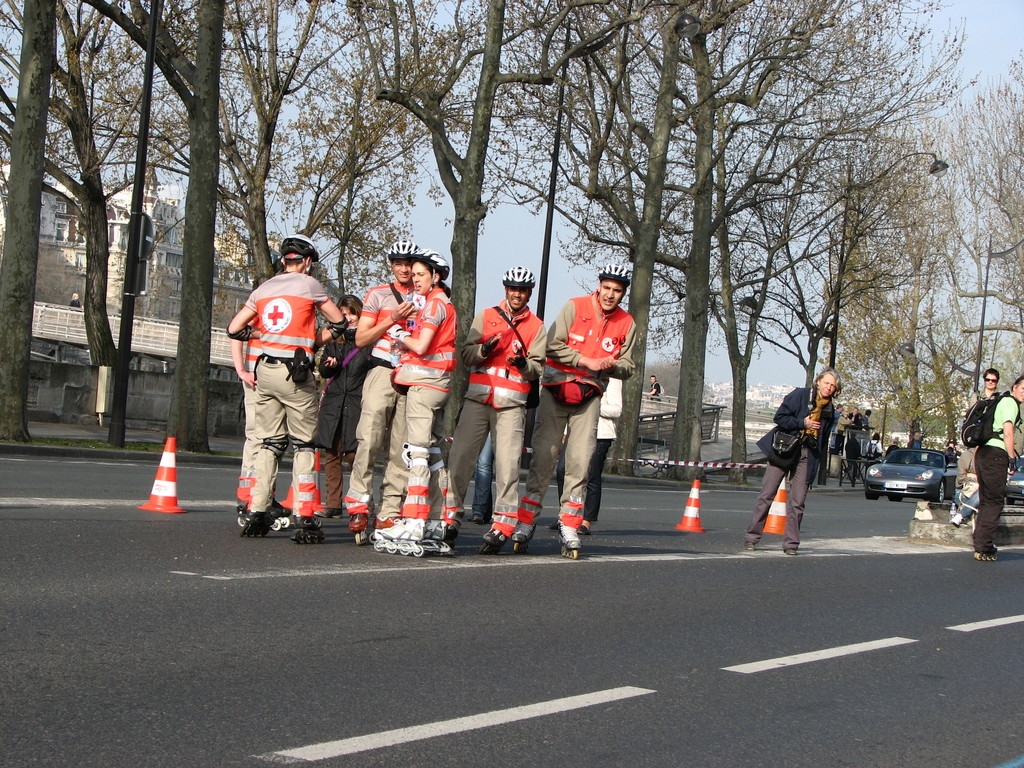Person: (225, 234, 1024, 560)
